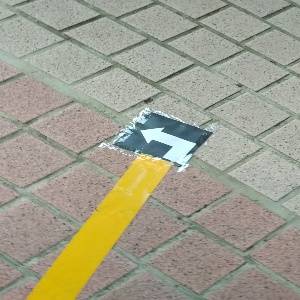left: (112, 111, 215, 165)
